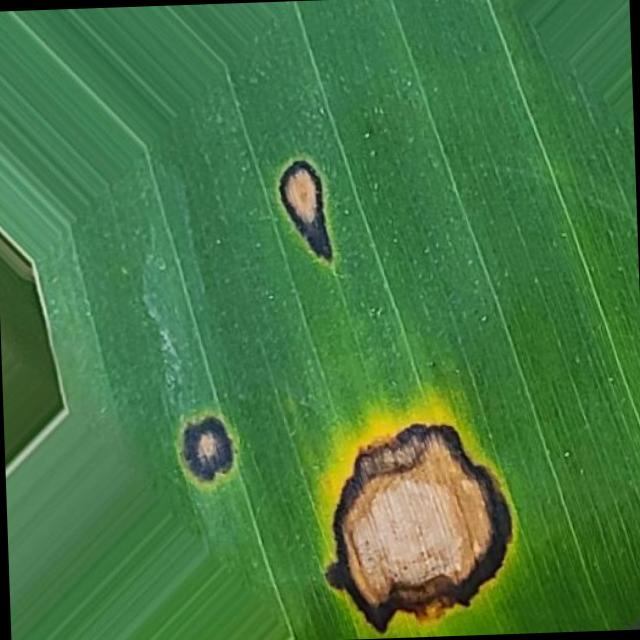Banana_Black_Sigatoka: (163, 132, 526, 634)
